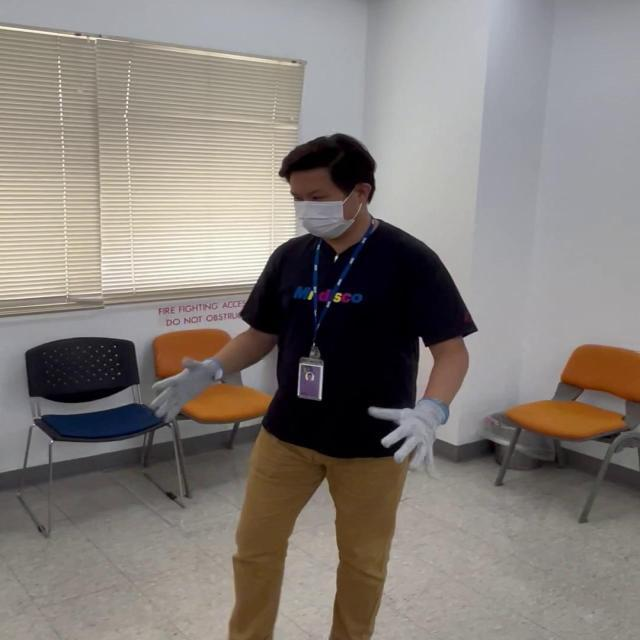gloved_hand: (369, 390, 446, 466), (154, 359, 229, 416)
